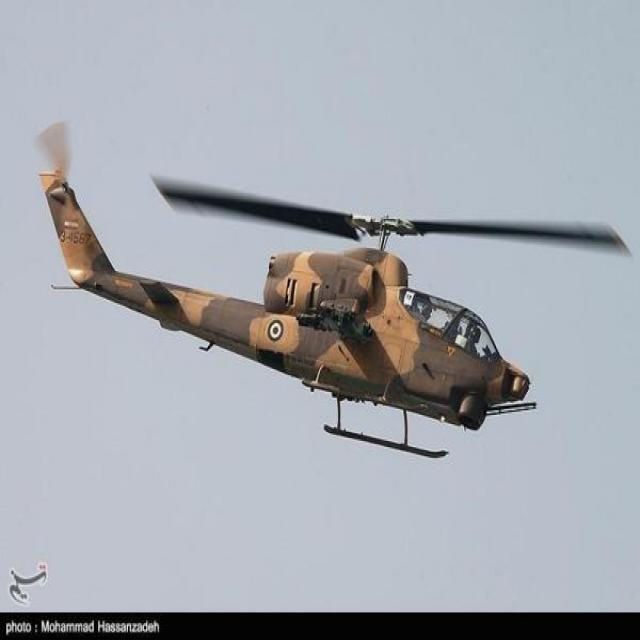MIL_HELO: (24, 93, 621, 484)
